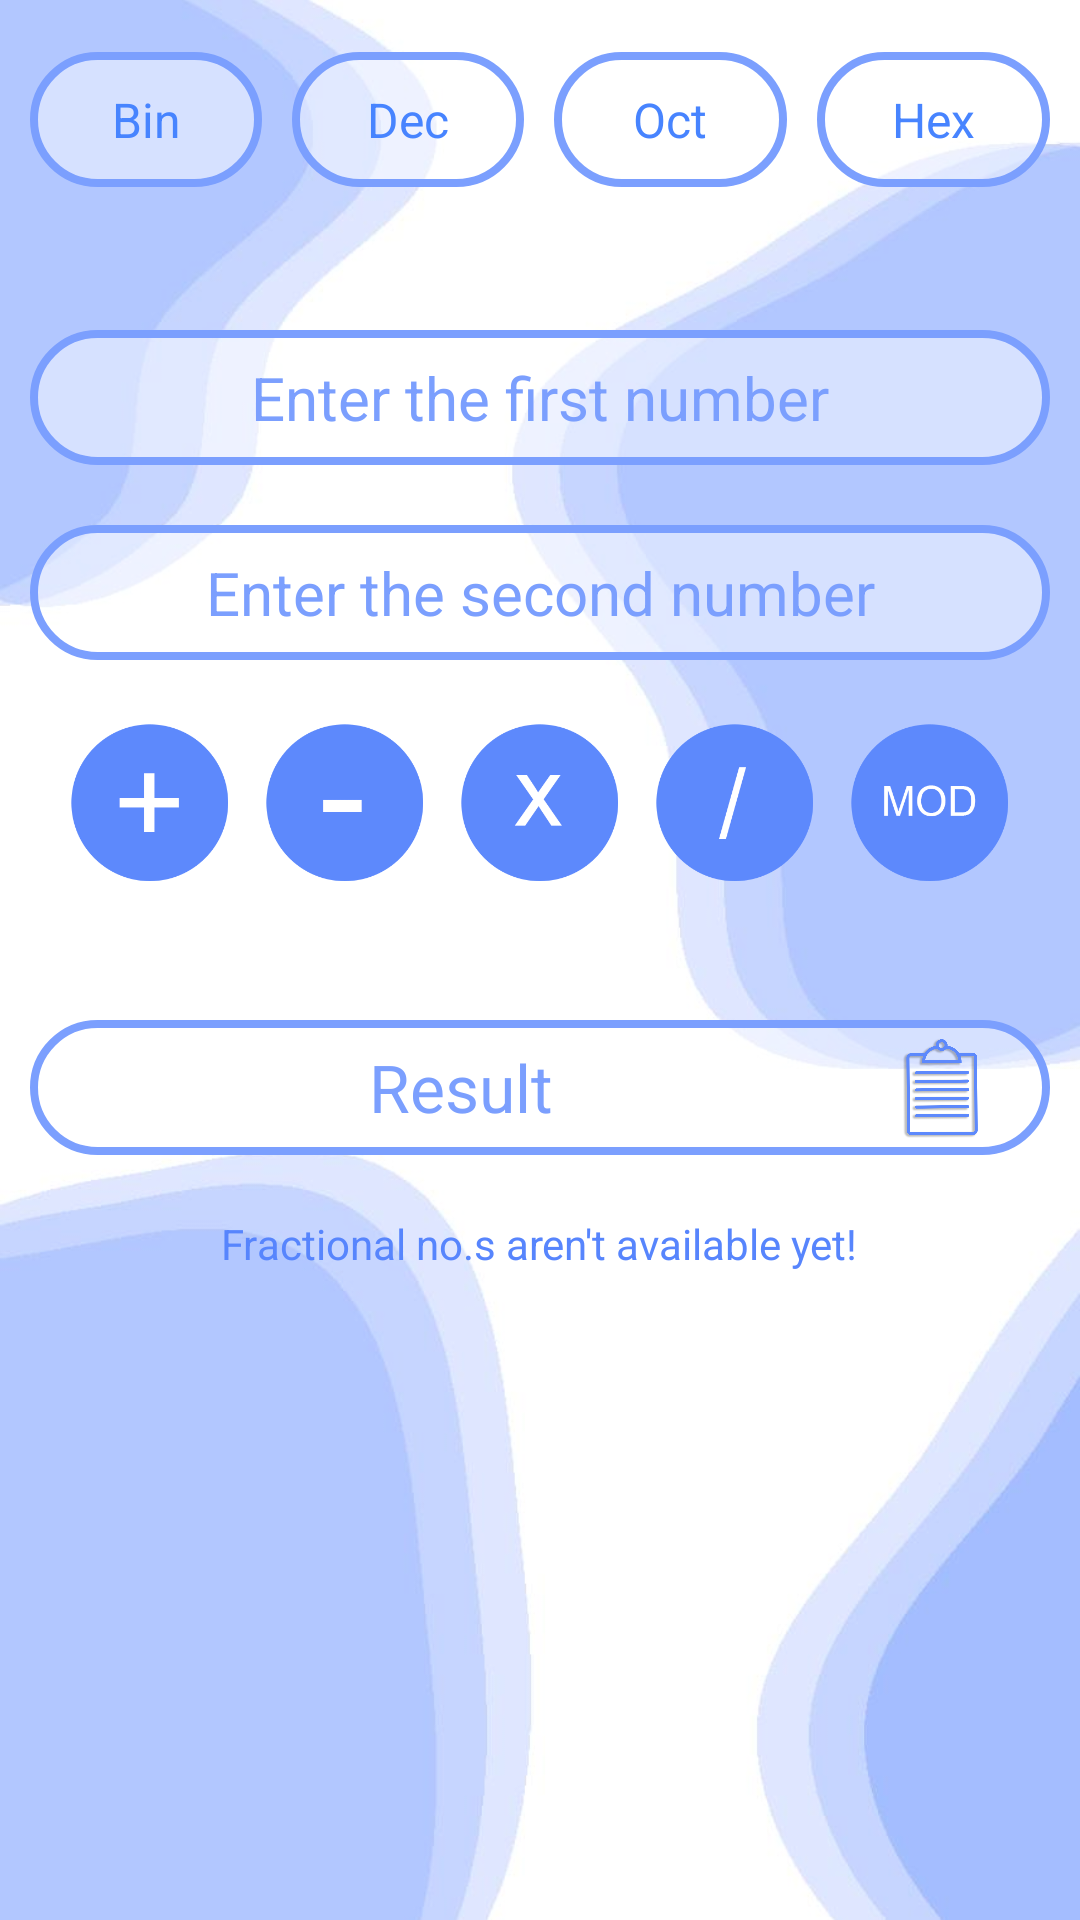

Screen size 1080x1920. Icon name, then its center in pixels as [x,y]:
Add Numbers: [149,802]
Copy To Cliboard: [941,1087]
divide: [734,802]
Multiply the numbers: [539,802]
Subtract Numbers: [344,802]
